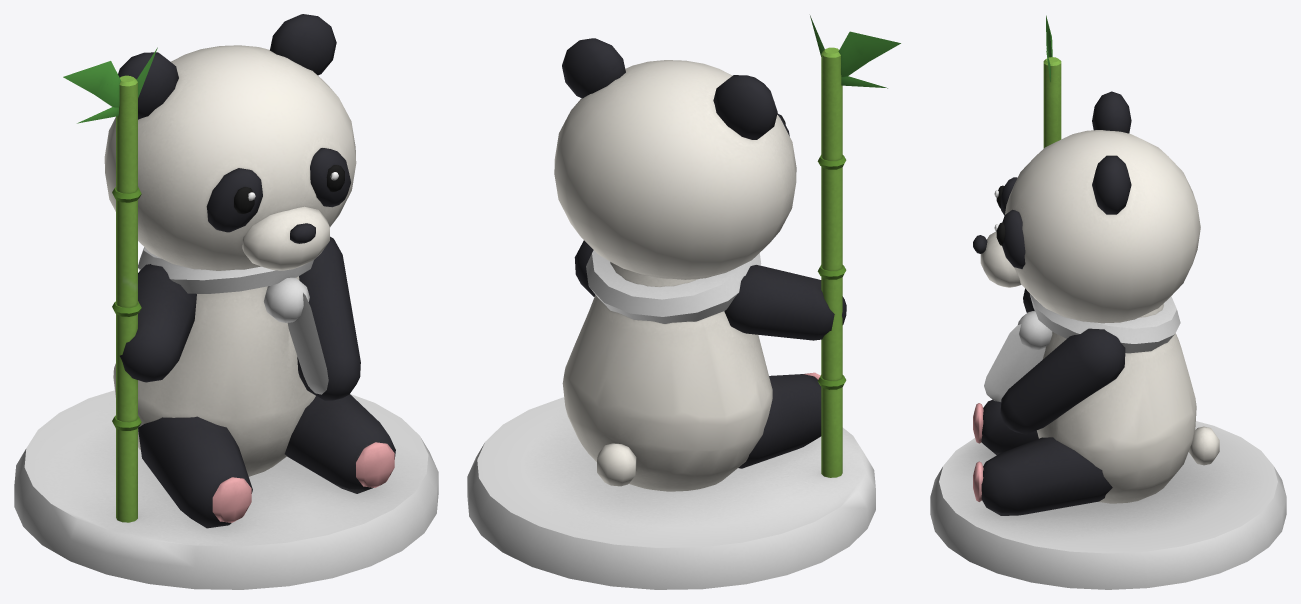
3 views of the same model, side by side, from view 1: azimuth 30°, elevation 25°; view 2: azimuth 150°, elevation 25°; view 3: azimuth 270°, elevation 25° (orthographic). The views are drawn at different scales.
Visible parts, largest first — view 1: TeamColor_Base, Head, Body, BambooPole, Leg_R, TeamColor_Scarf, Leg_L, Arm_L, Arm_R, Muzzle, Ear_L, EyePatch_R (+6 smaller); view 2: TeamColor_Base, Head, Body, BambooPole, Arm_R, TeamColor_Scarf, Leg_R, Ear_R, Ear_L, BambooLeaves, Tail, BambooNodes (+1 smaller); view 3: TeamColor_Base, Head, Body, Leg_L, Arm_L, TeamColor_Scarf, Ear_L, BambooPole, Leg_R, Ear_R, Muzzle, EyePatch_L (+1 smaller).
Boxes of the visible parts, x1=… form: TeamColor_Base: x1=14, y1=390, x2=438, y2=589; Head: x1=104, y1=45, x2=356, y2=270; Body: x1=113, y1=276, x2=315, y2=476; BambooPole: x1=116, y1=75, x2=137, y2=522; Leg_R: x1=138, y1=416, x2=252, y2=528; TeamColor_Scarf: x1=138, y1=247, x2=328, y2=394; Leg_L: x1=284, y1=394, x2=395, y2=493; Arm_L: x1=297, y1=236, x2=360, y2=400; Arm_R: x1=120, y1=264, x2=196, y2=382; Muzzle: x1=242, y1=206, x2=329, y2=270; Ear_L: x1=270, y1=14, x2=336, y2=75; EyePatch_R: x1=206, y1=168, x2=262, y2=232; TeamColor_Base: x1=467, y1=397, x2=875, y2=589; Head: x1=554, y1=60, x2=796, y2=279; Body: x1=562, y1=262, x2=772, y2=491; BambooPole: x1=821, y1=47, x2=842, y2=477; Arm_R: x1=724, y1=265, x2=846, y2=340; TeamColor_Scarf: x1=586, y1=250, x2=761, y2=323; Leg_R: x1=738, y1=374, x2=821, y2=468; Ear_R: x1=713, y1=75, x2=777, y2=139; Ear_L: x1=562, y1=38, x2=625, y2=98; BambooLeaves: x1=810, y1=15, x2=900, y2=88; Tail: x1=597, y1=443, x2=636, y2=486; BambooNodes: x1=817, y1=155, x2=846, y2=389; TeamColor_Base: x1=930, y1=421, x2=1286, y2=589; Head: x1=1005, y1=130, x2=1200, y2=323; Body: x1=1037, y1=304, x2=1196, y2=503; Leg_L: x1=981, y1=437, x2=1112, y2=515; Arm_L: x1=1000, y1=328, x2=1125, y2=434; TeamColor_Scarf: x1=984, y1=294, x2=1180, y2=401; Ear_L: x1=1092, y1=155, x2=1131, y2=214; BambooPole: x1=1043, y1=57, x2=1061, y2=148; Leg_R: x1=981, y1=400, x2=1038, y2=455; Ear_R: x1=1092, y1=91, x2=1131, y2=133; Muzzle: x1=980, y1=231, x2=1021, y2=287; EyePatch_L: x1=1002, y1=209, x2=1025, y2=268.
Bounding box in the file's own units: 0.0565 × 0.071 × 0.054.
1 material, 1 textured.
